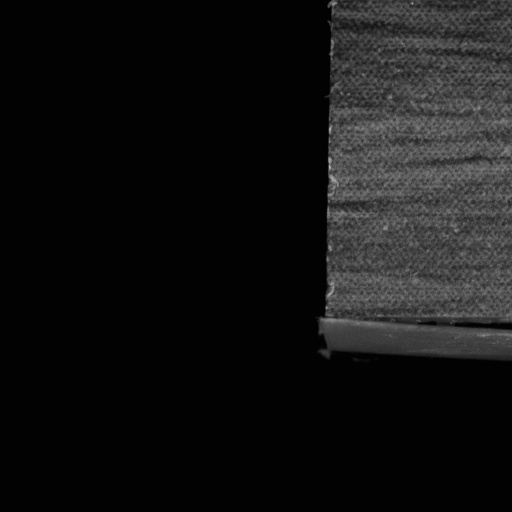kaijiao: (323, 311, 511, 365)
